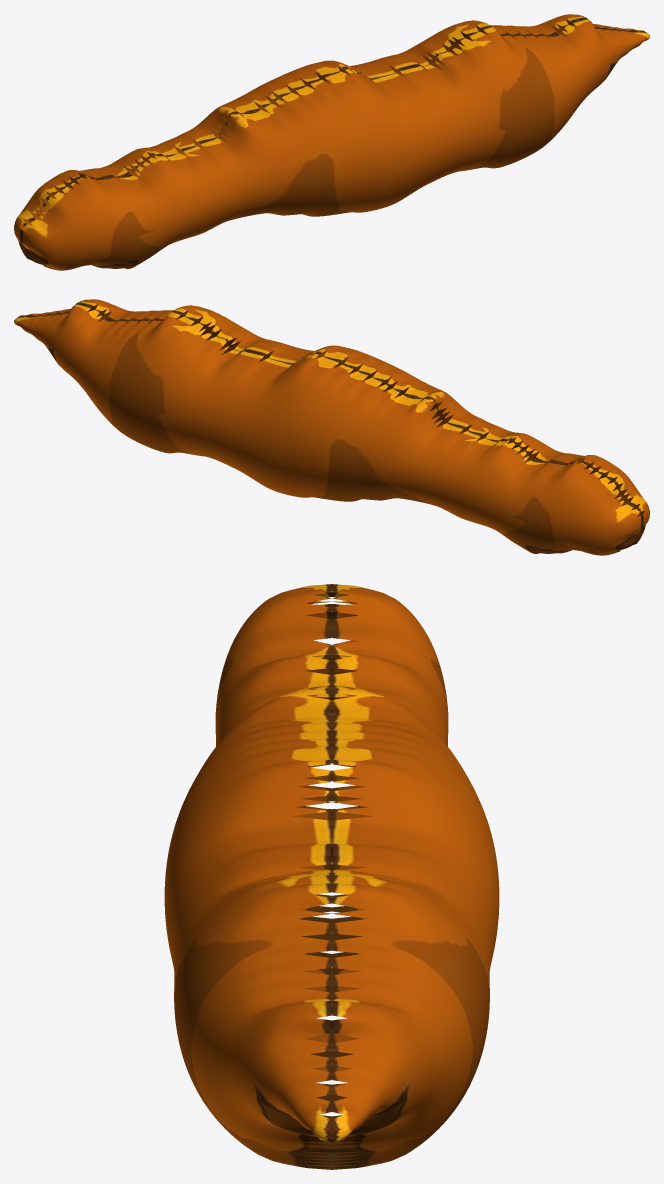
The model's file is orange_ledge.glb.
3 renders of one model, top to bottom at view 1: azimuth 30°, elevation 25°; view 2: azimuth 150°, elevation 25°; view 3: azimuth 270°, elevation 25°, orthographic. The views are drawn at different scales.
Parts seen in each view (by area): view 1: orange_ledge; view 2: orange_ledge; view 3: orange_ledge.
Boxes of the visible parts, left/top/right/bottom form: orange_ledge: left=14, top=14, right=649, bottom=270; orange_ledge: left=14, top=299, right=649, bottom=555; orange_ledge: left=164, top=584, right=499, bottom=1169.
Bounding box in the file's own units: 0.9883 × 0.2169 × 0.2282.
1 material, 1 textured.
